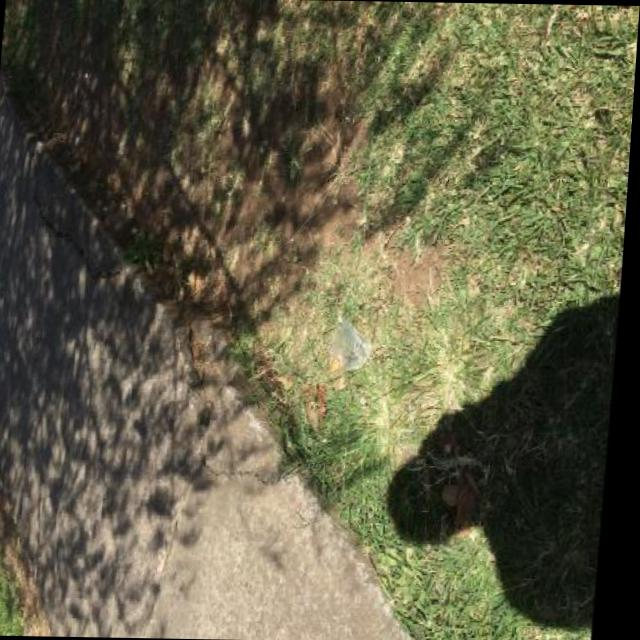plastic: (326, 314, 376, 373)
